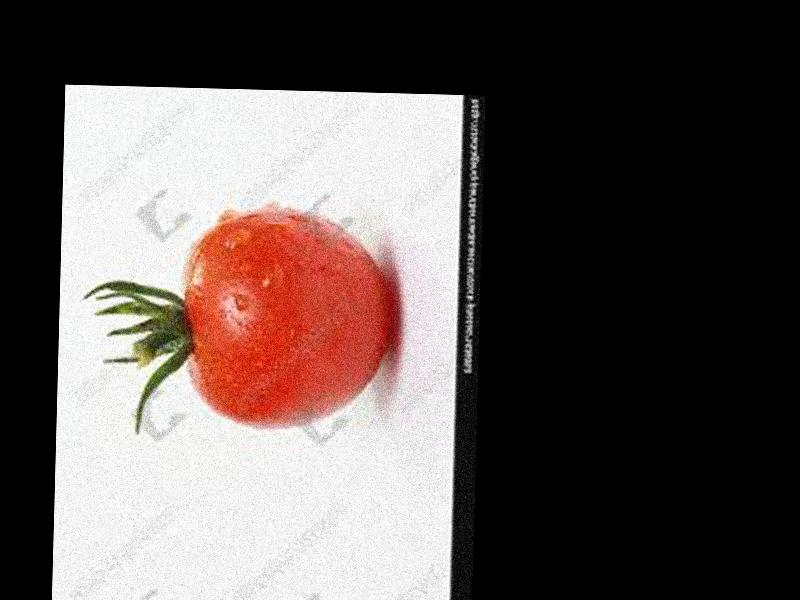Tomato: (184, 207, 393, 432)
